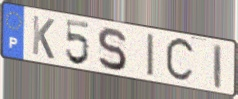5: (64, 17, 91, 67)
C: (164, 36, 197, 85)
I: (212, 42, 223, 91), (146, 32, 156, 79)
K: (31, 13, 56, 61)
S: (96, 26, 129, 72)
